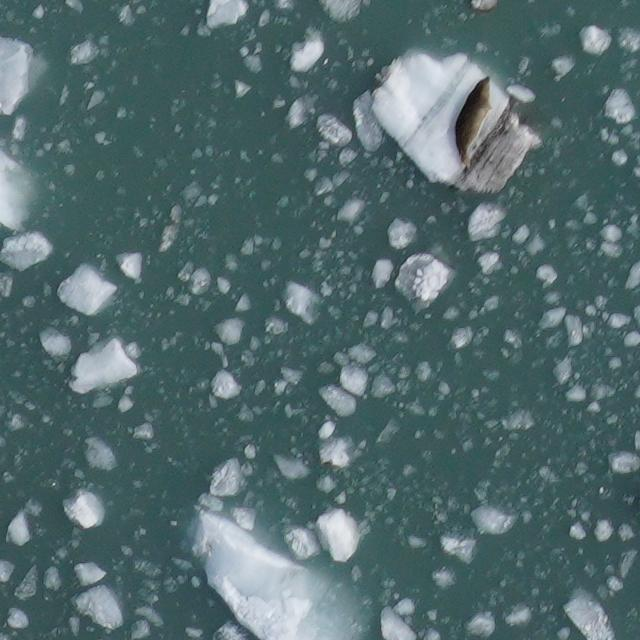seal: (440, 70, 504, 173)
